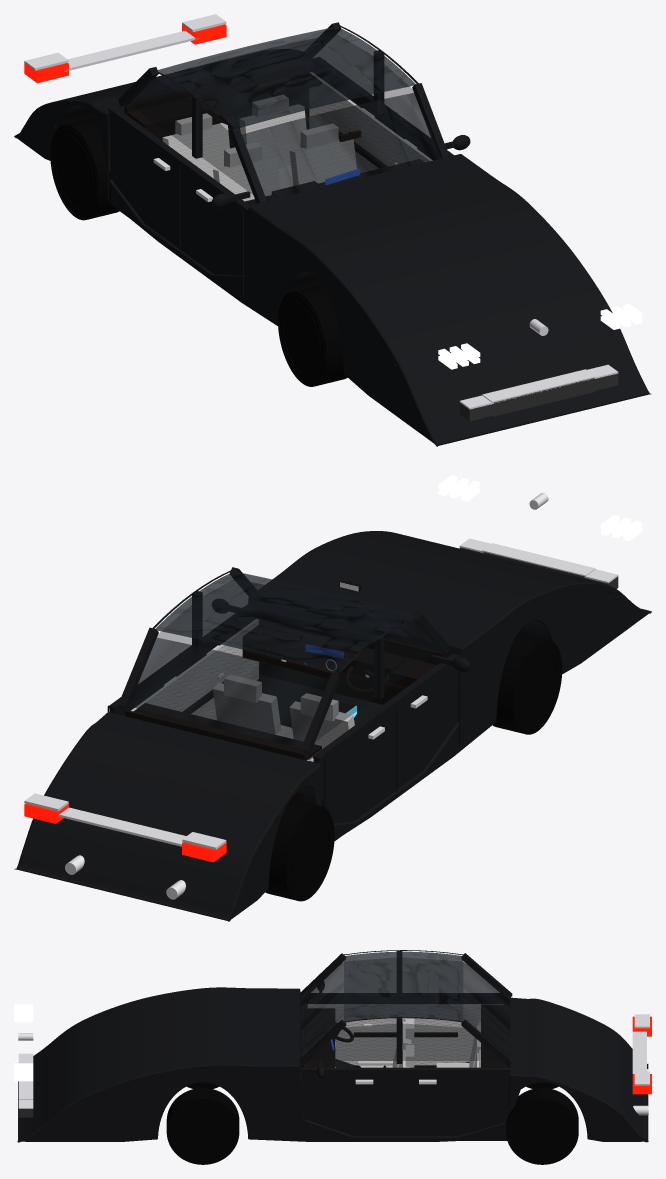
The model's file is phantom.glb.
3 renders of one model, top to bottom at view 1: azimuth 30°, elevation 25°; view 2: azimuth 150°, elevation 25°; view 3: azimuth 270°, elevation 25°, orthographic. The views are drawn at different scales.
Visible parts, largest first — view 1: BodyShell, PanoramicRoof, Windshield, DoorOuter_-1, Wheel (×2), InnerDoorCard_1, ParcelShelf, RearBulkhead, SeatBackR_1, RearWindow, SideWinR_-1, SeatBackF_1 (+15 smaller); view 2: BodyShell, PanoramicRoof, RearWindow, DoorOuter_-1, Wheel (×2), DashMain, InnerDoorCard_1, Firewall, Windshield, SideWinR_-1, SideWinF_-1, ParcelShelf (+15 smaller); view 3: BodyShell, DoorOuter_1, Wheel (×2), PanoramicRoof, InnerDoorCard_-1, RearWindow, SideWinR_1, Windshield, SideWinF_1, DoorOuter_-1, ParcelShelf, DashMain (+11 smaller).
Boxes of the visible parts, bbox=[...] form: BodyShell: bbox=[14, 56, 651, 446]; PanoramicRoof: bbox=[156, 26, 415, 128]; Windshield: bbox=[242, 93, 441, 200]; DoorOuter_-1: bbox=[109, 111, 247, 275]; Wheel (×2): bbox=[50, 118, 347, 386]; InnerDoorCard_1: bbox=[309, 72, 432, 172]; ParcelShelf: bbox=[127, 69, 321, 127]; RearBulkhead: bbox=[124, 62, 305, 148]; SeatBackR_1: bbox=[239, 104, 306, 168]; RearWindow: bbox=[137, 35, 332, 96]; SideWinR_-1: bbox=[128, 78, 191, 149]; SeatBackF_1: bbox=[290, 139, 356, 185]; BodyShell: bbox=[14, 531, 651, 921]; PanoramicRoof: bbox=[155, 571, 414, 673]; RearWindow: bbox=[126, 637, 328, 748]; DoorOuter_-1: bbox=[313, 665, 458, 841]; Wheel (×2): bbox=[265, 632, 562, 901]; DashMain: bbox=[242, 622, 436, 694]; InnerDoorCard_1: bbox=[124, 619, 258, 719]; Firewall: bbox=[263, 609, 443, 704]; Windshield: bbox=[238, 580, 432, 643]; SideWinR_-1: bbox=[315, 647, 376, 741]; SideWinF_-1: bbox=[384, 623, 440, 690]; ParcelShelf: bbox=[133, 703, 321, 760]; BodyShell: bbox=[17, 987, 648, 1142]; DoorOuter_1: bbox=[301, 1071, 510, 1140]; Wheel (×2): bbox=[166, 1088, 578, 1164]; PanoramicRoof: bbox=[344, 951, 463, 1021]; InnerDoorCard_-1: bbox=[308, 1004, 480, 1065]; RearWindow: bbox=[463, 962, 510, 1057]; SideWinR_1: bbox=[402, 1023, 501, 1060]; Windshield: bbox=[301, 962, 343, 1057]; SideWinF_1: bbox=[309, 1023, 396, 1060]; DoorOuter_-1: bbox=[301, 997, 509, 1044]; ParcelShelf: bbox=[481, 1005, 507, 1067]; DashMain: bbox=[306, 1008, 335, 1067].
Size of what is drawn, in the model's own units: 2.29 by 1.58 by 6.58.
Materials: 19 (4 with a texture image).
